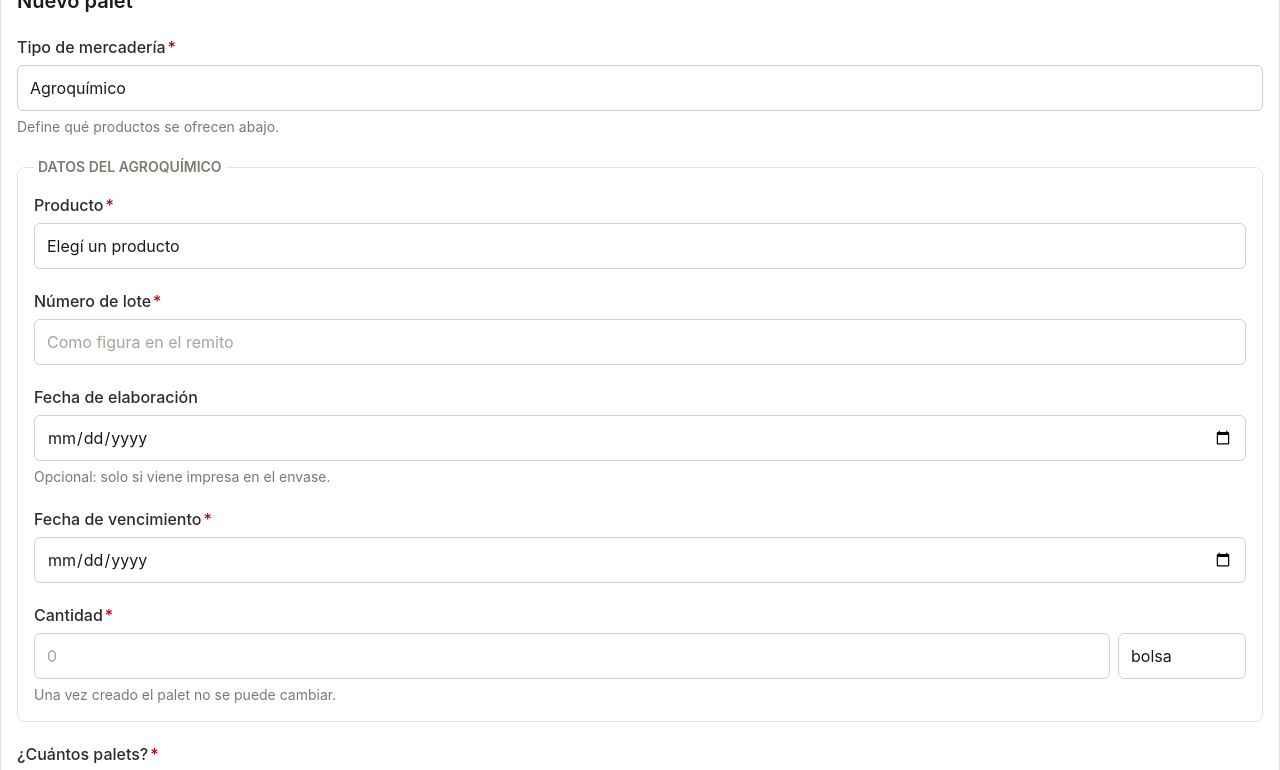
it: sector › no deja dar de alta sin ubicación
Select "Glifosato" in the dropdown labelled "Producto*" at (640, 246), box [34,223,1246,269]
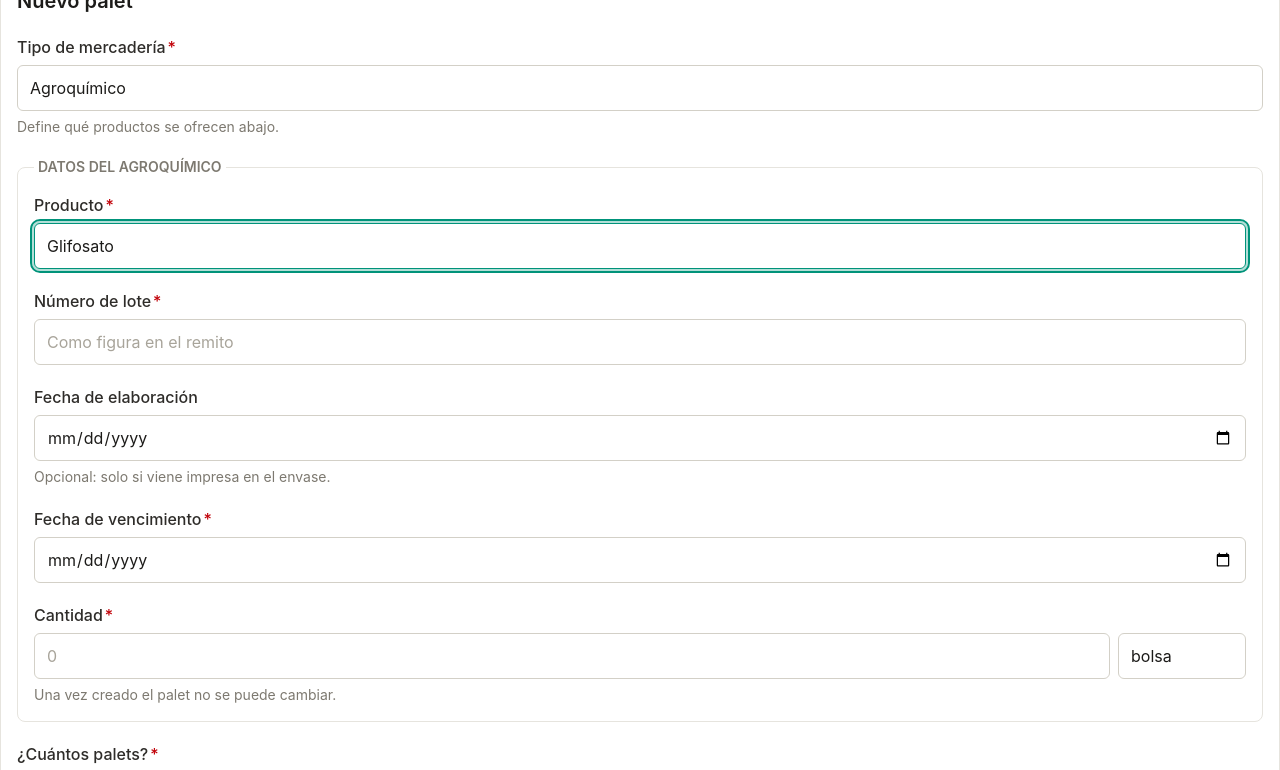
Type "L-001" into the field labelled "Número de lote*".
click(640, 342); type("L-001")  # box [34,319,1246,365]
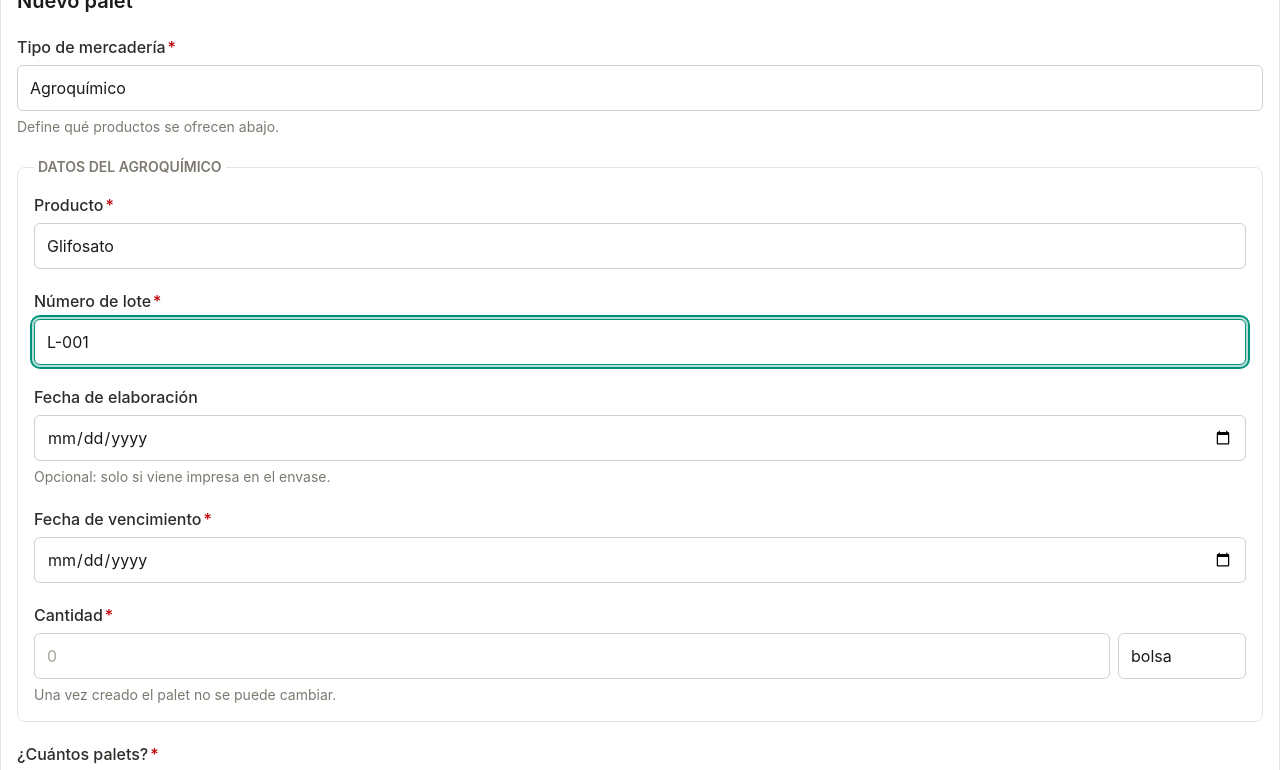
Type "50" into the field labelled "Cantidad*".
click(572, 656); type("50")  # box [34,633,1110,679]
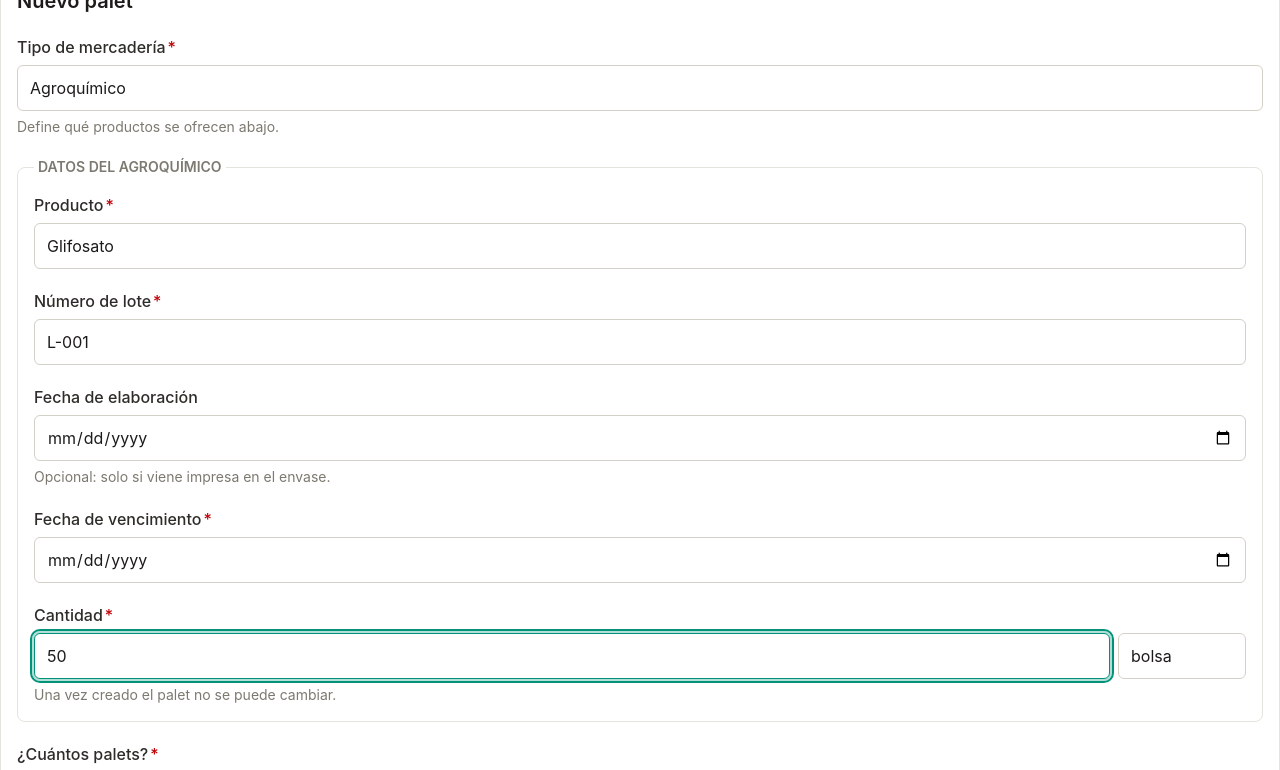
Type "2027-01-01" into the date field labelled "Fecha de vencimiento*".
click(640, 560); type("2027-01-01")  # box [34,537,1246,583]
(page scrolled)
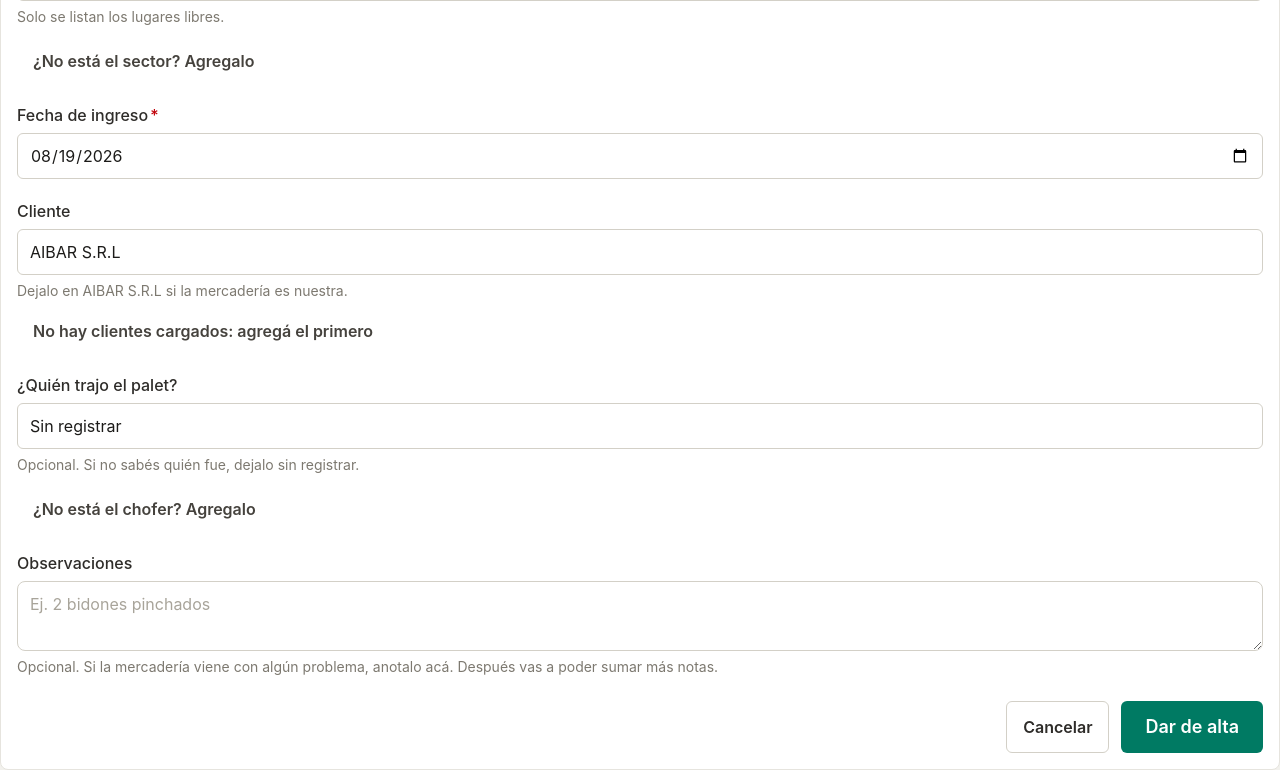
Click the button "Dar de alta".
click(1192, 727)  # box [1122,701,1263,753]
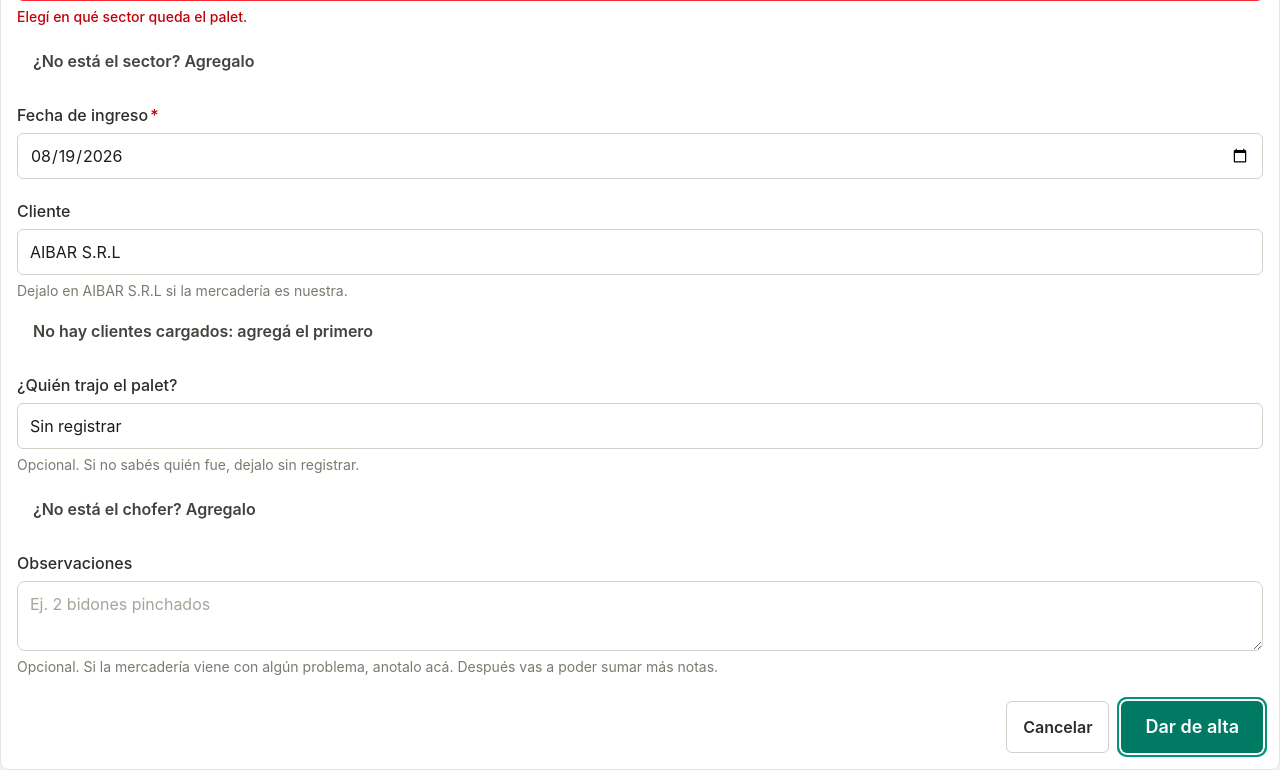
Expected: the text "Elegí en qué sector queda el palet." is shown, [17,8,247,25]
